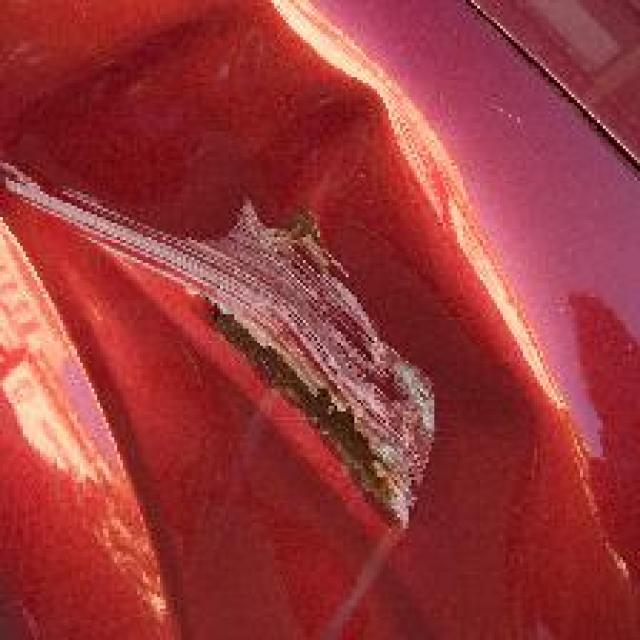door_dent_severe: (37, 97, 531, 531)
